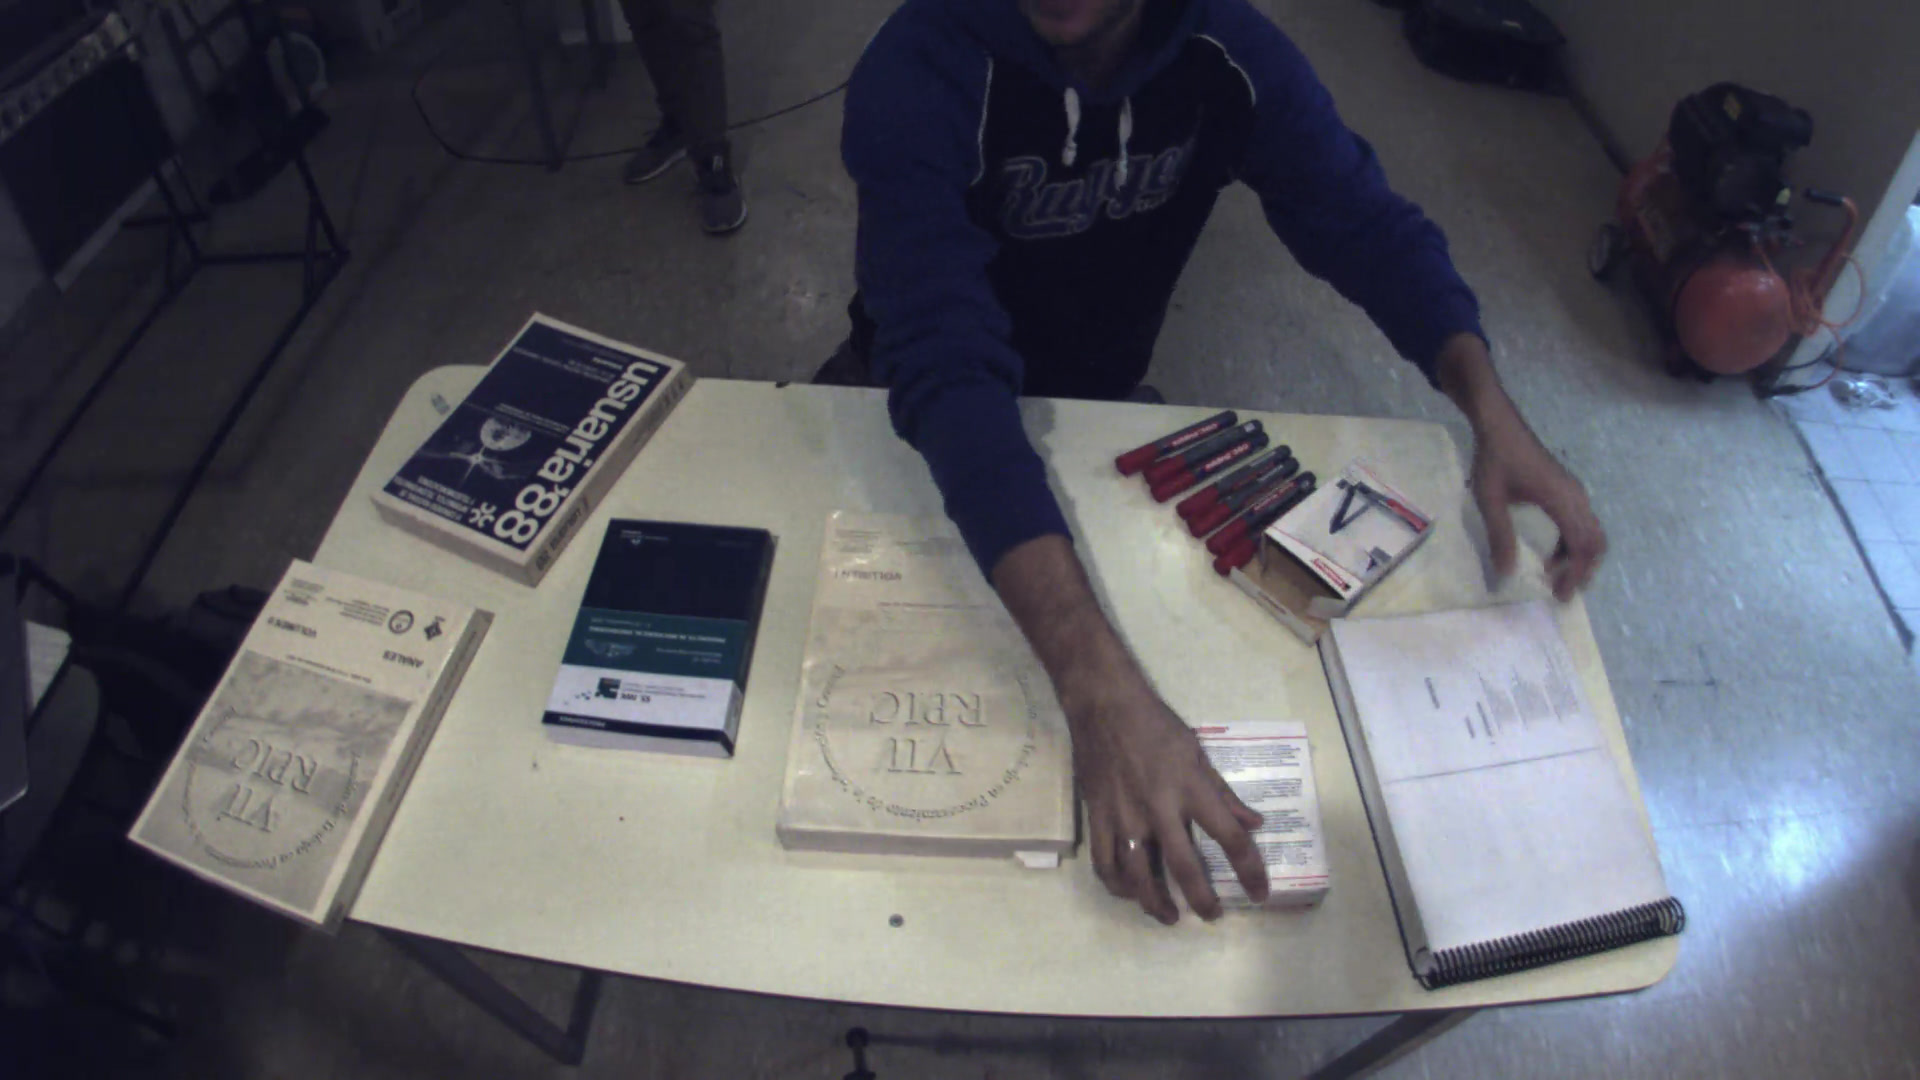hand: (1063, 705, 1288, 931), (1462, 414, 1610, 604)
